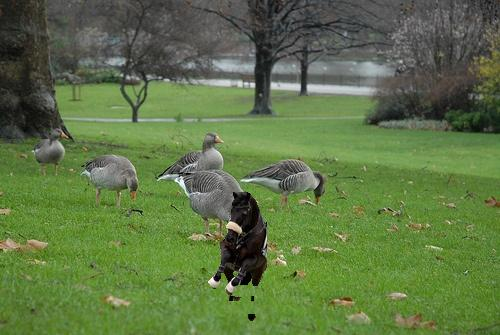tampered: (209, 192, 267, 321)
